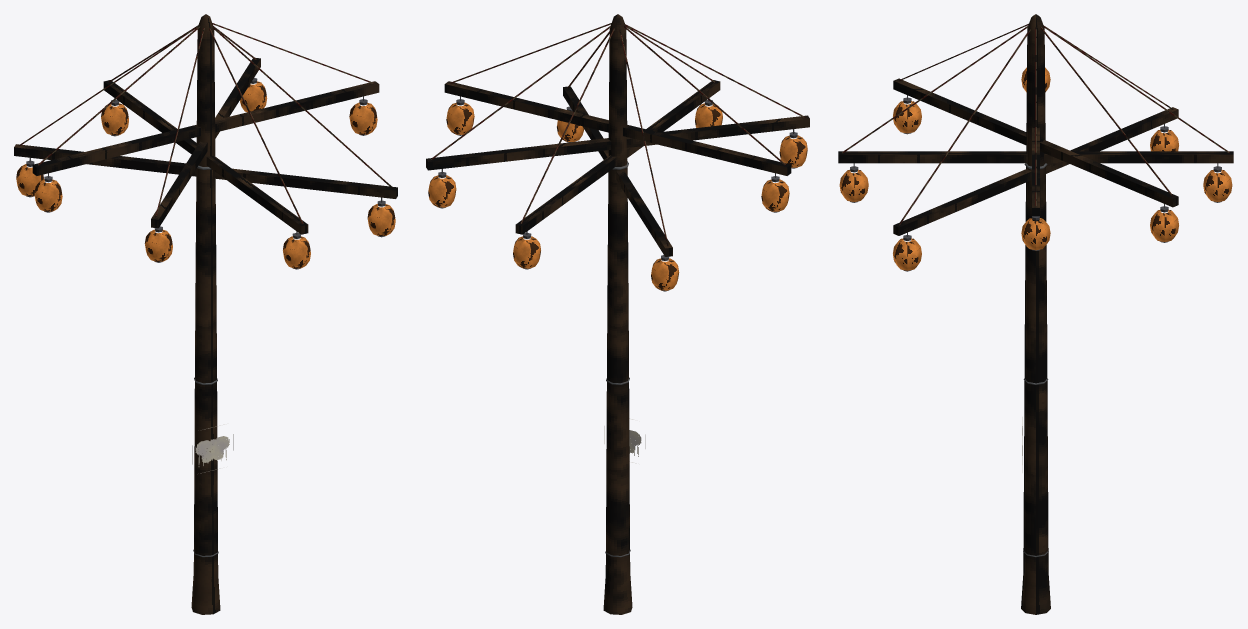
Rendered from lantern_pole.glb.
3 renders of one model, left to right at view 1: azimuth 30°, elevation 25°; view 2: azimuth 150°, elevation 25°; view 3: azimuth 270°, elevation 25°, orthographic.
Visible parts, largest first — view 1: detail, pole-col; view 2: detail, pole-col; view 3: detail, pole-col.
Boxes of the visible parts, bbox=[...] form: detail: bbox=[14, 23, 397, 557]; pole-col: bbox=[191, 14, 220, 614]; detail: bbox=[426, 23, 809, 557]; pole-col: bbox=[603, 14, 632, 614]; detail: bbox=[838, 23, 1233, 557]; pole-col: bbox=[1021, 14, 1050, 614].
Size of the model in its own units: 5 by 8.3 by 5.
Materials: 6 (6 with a texture image).
